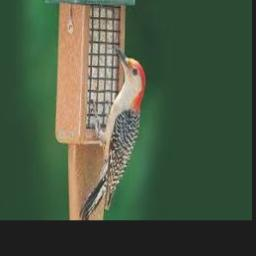Woodpecker: (80, 45, 145, 218)
